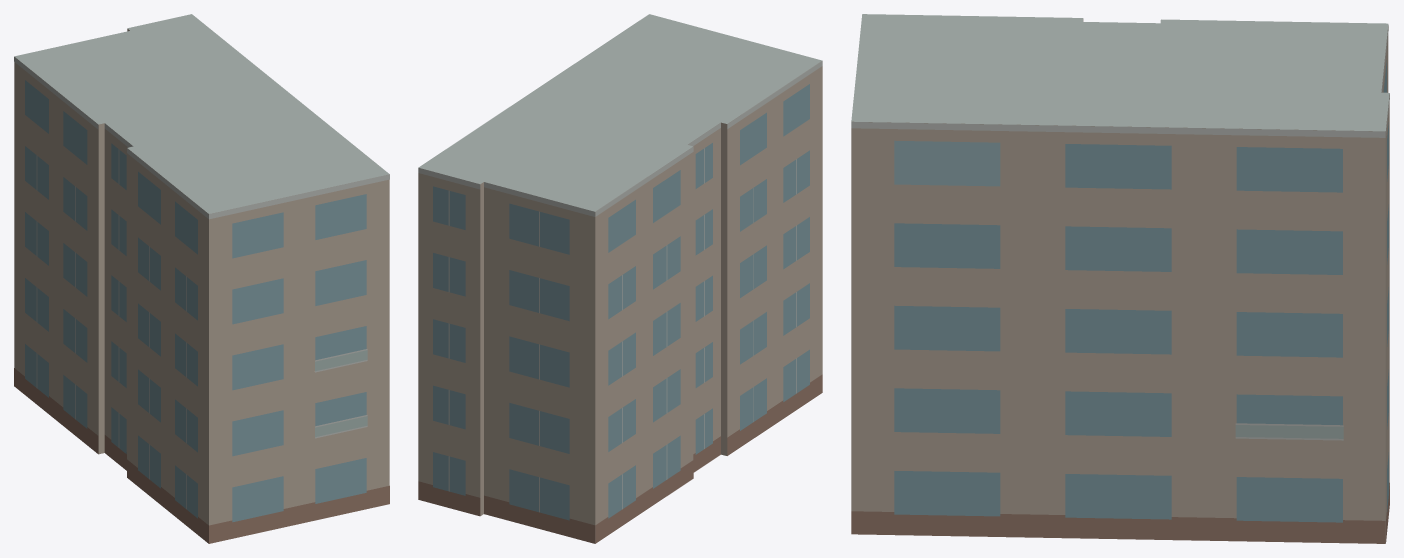
Rendered from survey-upis-32900003.glb.
3 views of the same model, side by side, from view 1: azimuth 30°, elevation 25°; view 2: azimuth 150°, elevation 25°; view 3: azimuth 270°, elevation 25° (orthographic). The views are drawn at different scales.
Visible parts, largest first — view 1: survey-upis-32900003.tmp; view 2: survey-upis-32900003.tmp; view 3: survey-upis-32900003.tmp.
Boxes of the visible parts, <box> form: survey-upis-32900003.tmp: <box>14,14,389,543</box>; survey-upis-32900003.tmp: <box>418,14,822,543</box>; survey-upis-32900003.tmp: <box>851,14,1389,543</box>.
Bounding box in the file's own units: 9.34 × 15.3 × 18.11.
